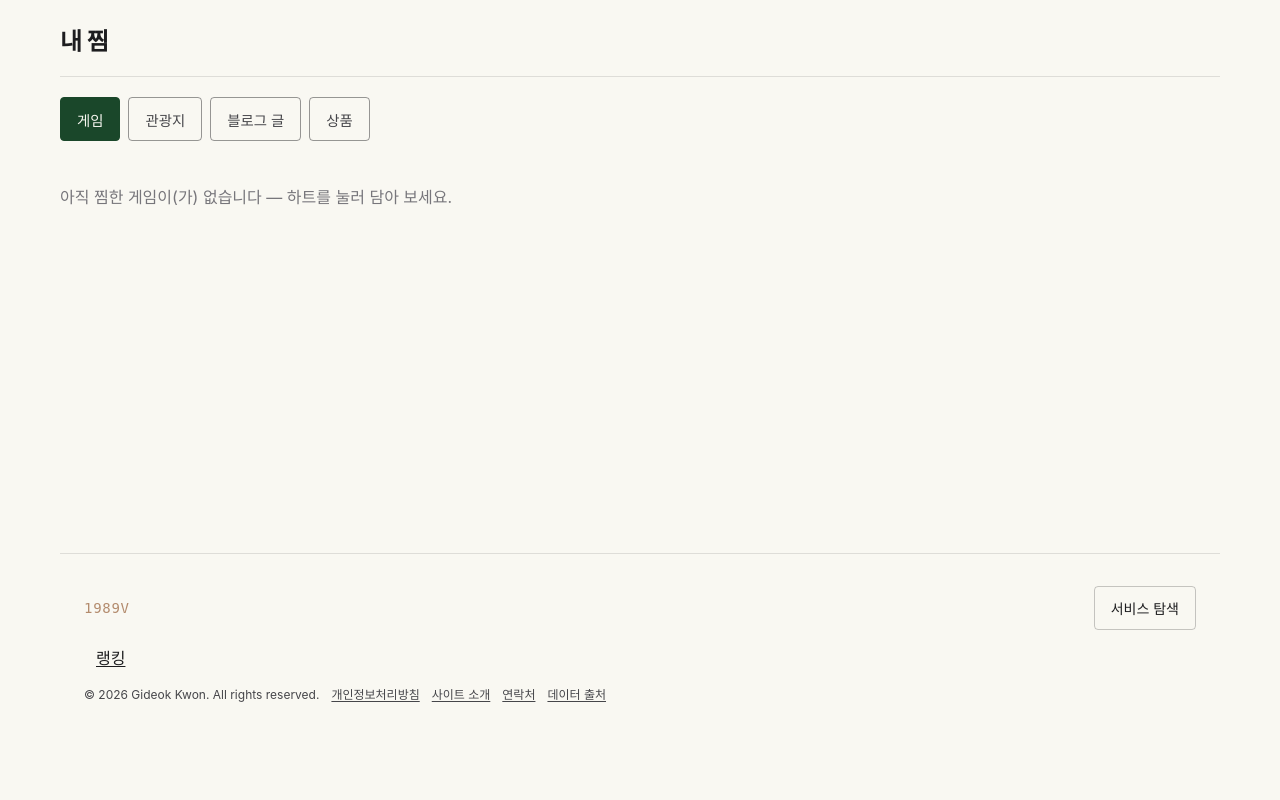
Test: 찜 화면 — 묶음 공유 막대 › 링크가 없으면 「공유 링크 만들기」 — 누르면 만들어 복사·공유 막대로 바뀐다
The width and height of the screenshot is (1280, 800).
What coordinates should you click on to do the following:
click the button "관광지"
I would click on:
 (165, 119)
Its box is x1=128 y1=97 x2=202 y2=141.
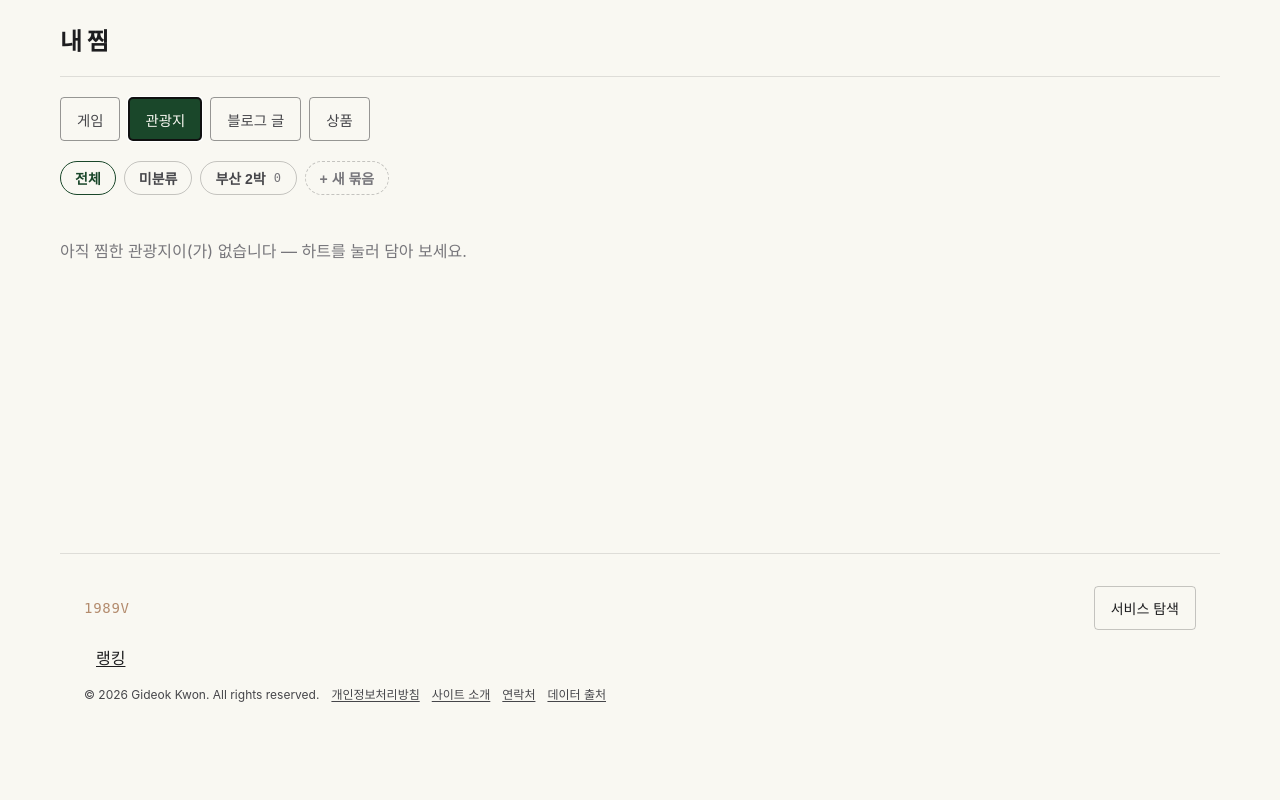
expect the button "부산 2박 0" is shown: met
What coordinates should you click on to do the following:
click the button "부산 2박 0"
I would click on:
 (248, 178)
Its box is x1=200 y1=161 x2=297 y2=195.
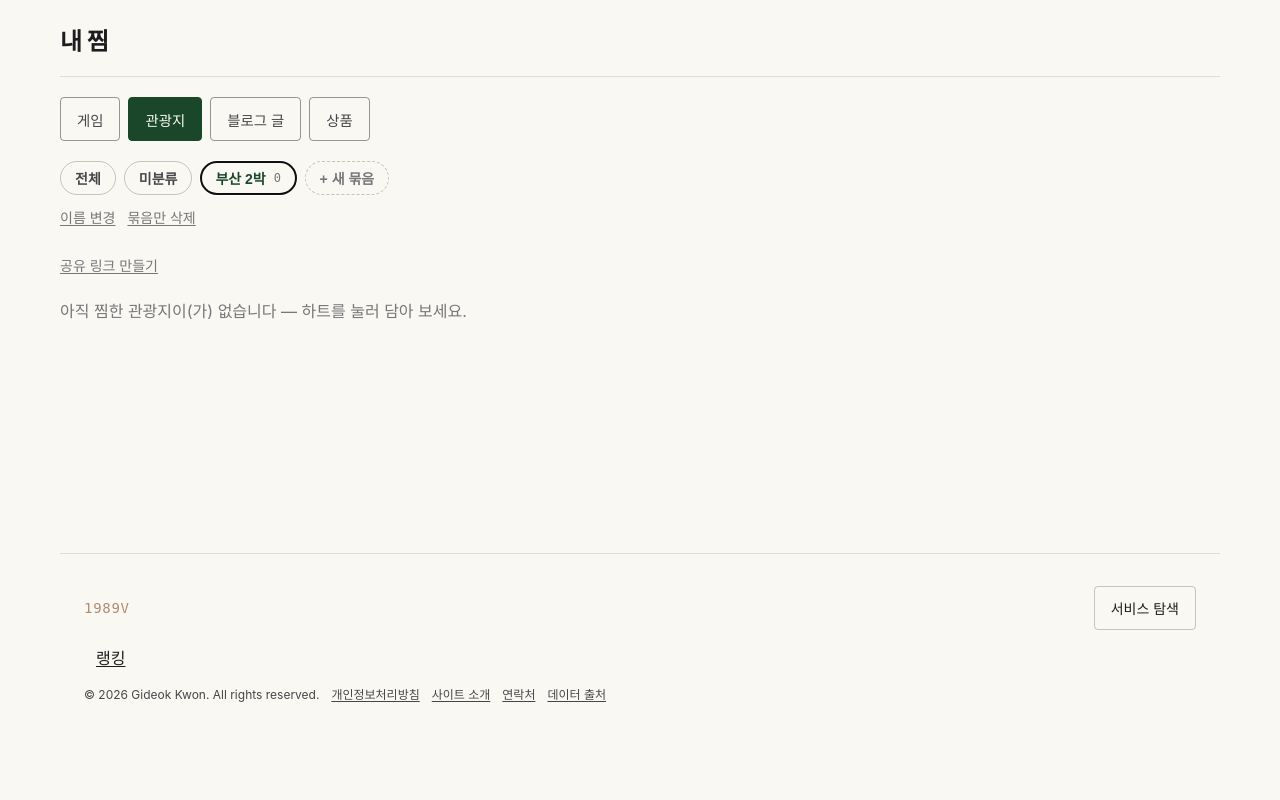
What coordinates should you click on to do the following:
click the button "공유 링크 만들기"
I would click on:
 (109, 265)
Its box is x1=60 y1=255 x2=158 y2=275.
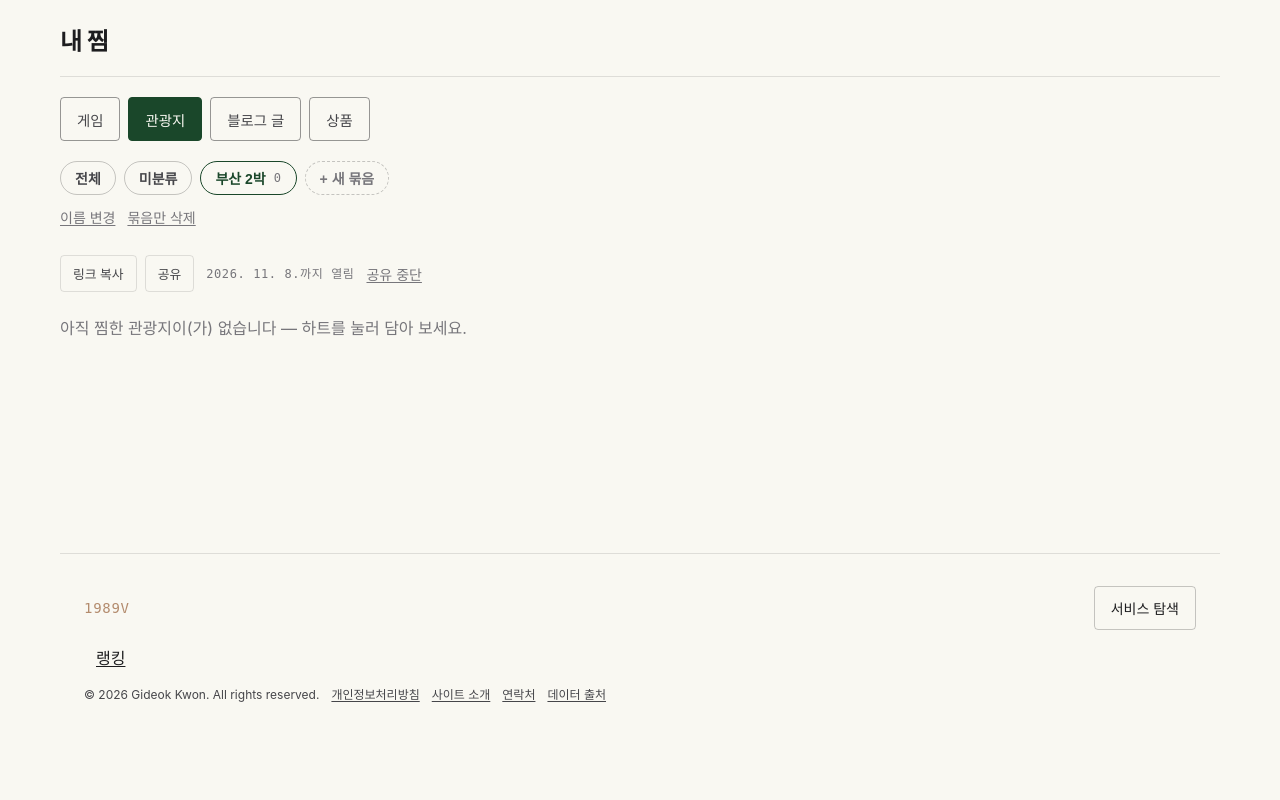
expect the button "링크 복사" is shown: met, box x1=60 y1=255 x2=137 y2=292
